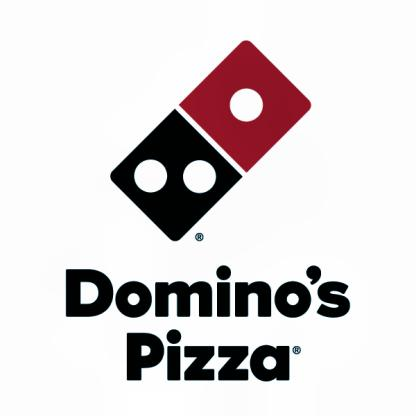Domino-s: (62, 35, 357, 385)
